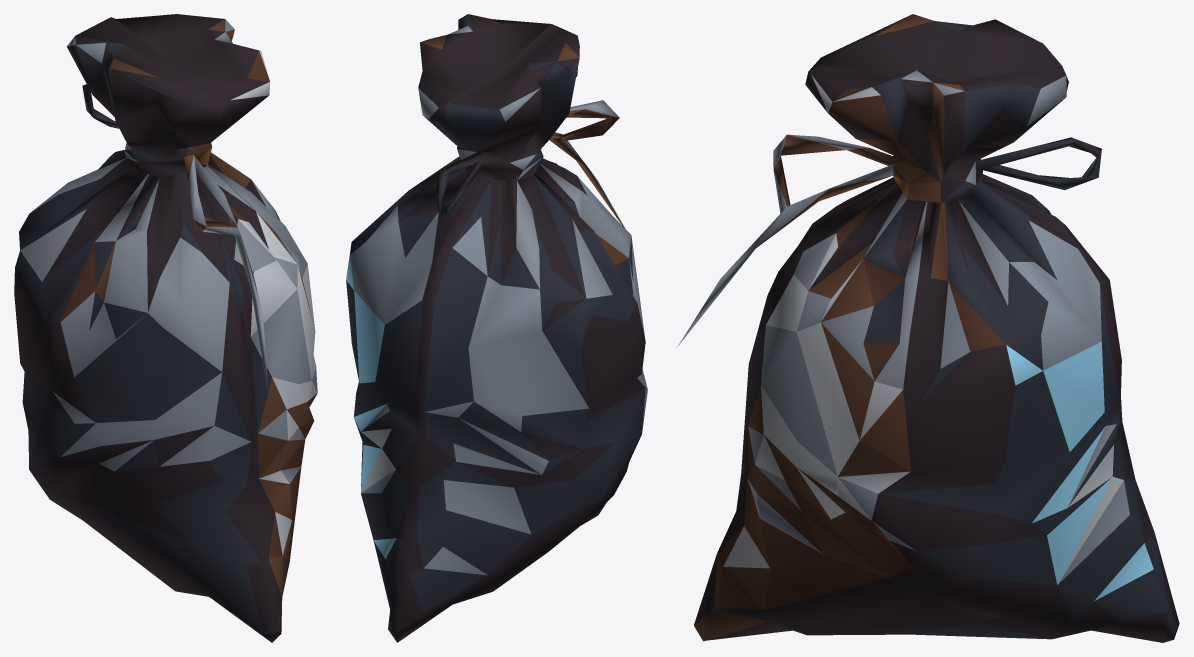
The model's file is SM_trash_bag_black.glb.
3 views of the same model, side by side, from view 1: azimuth 30°, elevation 25°; view 2: azimuth 150°, elevation 25°; view 3: azimuth 270°, elevation 25° (orthographic). The views are drawn at different scales.
Parts seen in each view (by area): view 1: SM_trash_bag_black; view 2: SM_trash_bag_black; view 3: SM_trash_bag_black.
Boxes of the visible parts, left/top/right/bottom form: SM_trash_bag_black: left=14, top=14, right=317, bottom=642; SM_trash_bag_black: left=346, top=14, right=647, bottom=642; SM_trash_bag_black: left=677, top=14, right=1179, bottom=642.
Size of the model in its own units: 0.2545 by 0.5 by 0.3854.
Materials: 1 (1 with a texture image).
